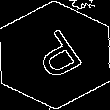P_SE: (22, 24, 88, 86)
